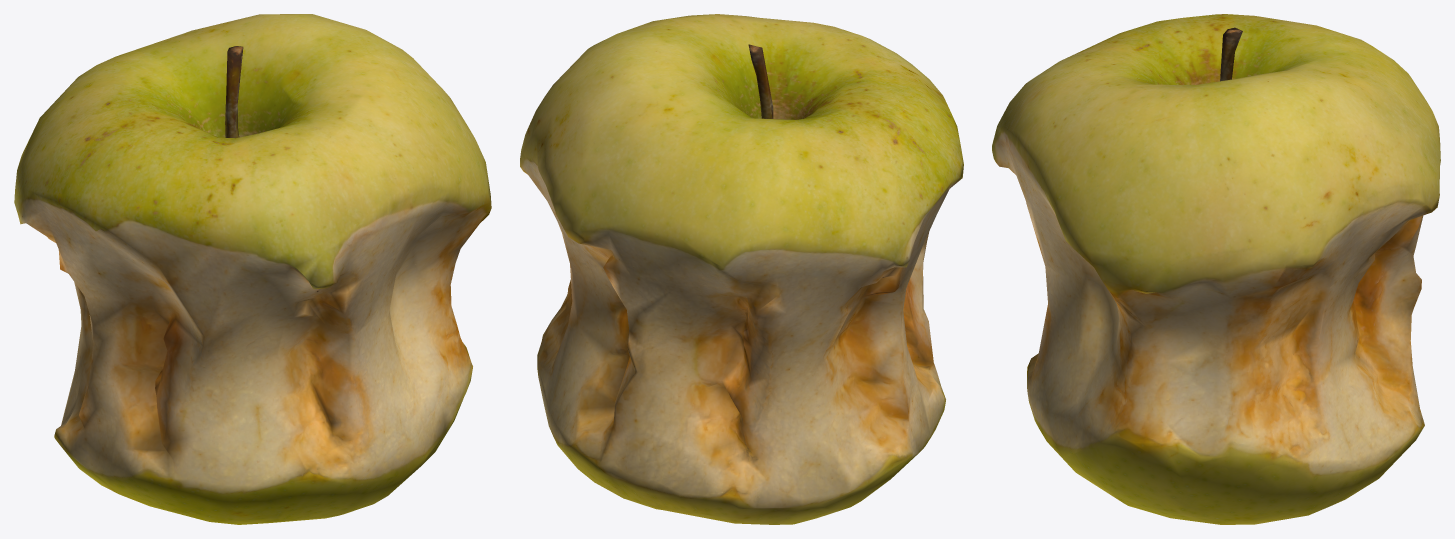
File: BittenApple.glb
3 views of the same model, side by side, from view 1: azimuth 30°, elevation 25°; view 2: azimuth 150°, elevation 25°; view 3: azimuth 270°, elevation 25° (orthographic).
Parts seen in each view (by area): view 1: tgyociqpa_LOD0_TIER2_000; view 2: tgyociqpa_LOD0_TIER2_000; view 3: tgyociqpa_LOD0_TIER2_000.
Part boxes in pixels (<box>): tgyociqpa_LOD0_TIER2_000: <box>14,14,491,524</box>; tgyociqpa_LOD0_TIER2_000: <box>520,14,963,524</box>; tgyociqpa_LOD0_TIER2_000: <box>992,14,1440,524</box>.
Size of the model in its own units: 0.8403 by 0.8979 by 0.8182.
1 material, 1 textured.
